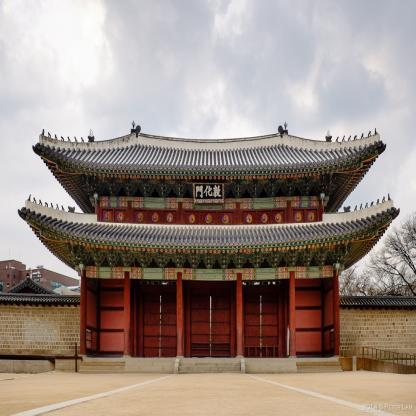Building Outline: (17, 125, 400, 373)
Deco: (193, 183, 224, 203)
Door: (191, 289, 231, 358), (244, 293, 279, 358), (142, 293, 177, 357)
Door Hole: (295, 278, 333, 358), (86, 278, 124, 358)
Facade: (87, 179, 338, 360)
Floor Slab: (87, 360, 338, 366), (87, 248, 338, 254)
Raised Floor: (87, 254, 338, 359)
Roof: (17, 206, 400, 254), (32, 141, 386, 180)
Top Floor: (95, 194, 324, 248)
